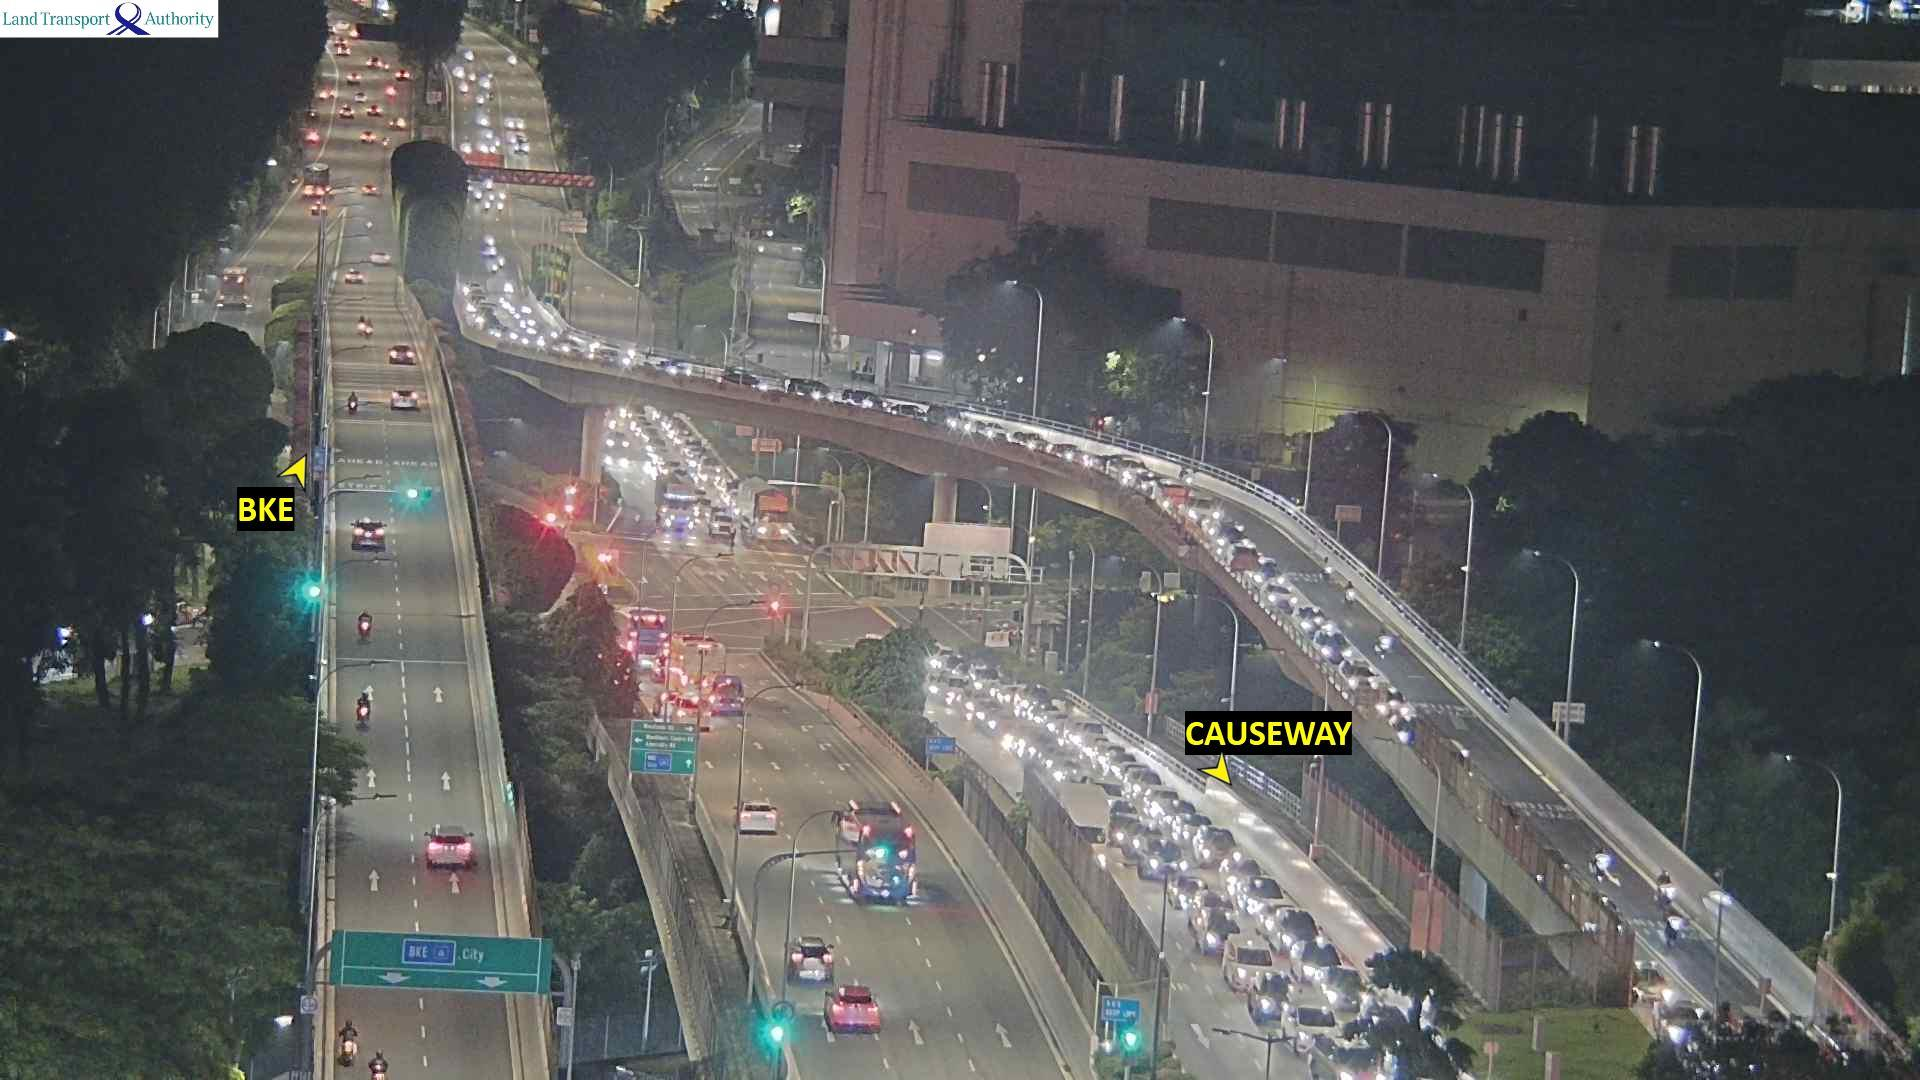vehicle-causeway-johor: (741, 481, 793, 535), (655, 472, 696, 530), (1230, 943, 1280, 989), (1307, 1035, 1370, 1071), (1287, 998, 1328, 1048), (1258, 975, 1296, 1019), (1138, 837, 1182, 874), (1203, 827, 1240, 864), (1127, 824, 1166, 860), (727, 364, 773, 390), (1241, 880, 1280, 910), (1196, 907, 1229, 943), (1321, 969, 1358, 998), (1275, 909, 1313, 936), (1300, 943, 1340, 969), (1109, 798, 1134, 839), (1095, 454, 1137, 477), (786, 377, 825, 402), (1145, 787, 1182, 814), (1004, 683, 1050, 704), (1640, 959, 1665, 997), (647, 357, 699, 376), (993, 678, 1030, 702), (1167, 815, 1211, 835), (881, 401, 931, 418), (1000, 720, 1031, 746), (963, 422, 1000, 444), (1229, 535, 1262, 560), (562, 338, 609, 355), (1315, 629, 1346, 654), (1065, 719, 1097, 744), (1079, 721, 1108, 748), (1042, 440, 1077, 462), (977, 705, 1013, 727), (1125, 767, 1155, 791), (1108, 754, 1138, 778), (1337, 657, 1369, 679), (1654, 864, 1671, 905), (1257, 582, 1284, 607), (981, 715, 1017, 733), (1291, 607, 1319, 630), (894, 405, 932, 422), (1589, 845, 1607, 880), (712, 512, 737, 537), (696, 456, 723, 480), (959, 661, 990, 680), (839, 396, 885, 409), (1170, 492, 1208, 508), (1174, 877, 1200, 899), (972, 667, 1002, 686), (1010, 431, 1047, 446), (670, 422, 699, 440), (1158, 479, 1184, 498), (1374, 626, 1394, 653), (1023, 694, 1055, 709), (942, 678, 971, 695), (963, 694, 989, 712), (1667, 910, 1680, 947), (1191, 506, 1221, 522), (1097, 748, 1125, 765), (928, 669, 948, 692), (1047, 713, 1073, 731), (947, 657, 973, 674), (640, 443, 667, 458), (678, 436, 703, 452), (632, 423, 657, 439), (688, 447, 711, 464), (692, 500, 716, 516), (1091, 740, 1114, 756), (659, 462, 680, 479), (653, 452, 676, 467), (721, 483, 741, 500), (1137, 472, 1159, 487), (475, 310, 493, 327), (644, 433, 663, 448), (509, 303, 530, 318), (500, 298, 525, 310), (516, 316, 538, 330), (465, 301, 492, 311), (1036, 705, 1058, 719), (629, 417, 649, 430), (1345, 579, 1356, 603), (707, 472, 725, 485), (463, 282, 481, 293), (522, 332, 537, 343), (468, 294, 484, 303), (489, 326, 510, 332), (541, 332, 546, 348), (512, 331, 521, 339)
vehicle-causeway-singapore: (836, 802, 918, 913), (839, 803, 911, 860), (820, 985, 887, 1034), (425, 831, 480, 868), (687, 676, 742, 708), (733, 803, 782, 837), (794, 953, 849, 982), (799, 938, 835, 972), (340, 1019, 356, 1064), (713, 695, 742, 717), (356, 690, 373, 723), (397, 392, 422, 413), (393, 388, 419, 407), (351, 533, 378, 551), (373, 1048, 389, 1080), (356, 612, 373, 637), (393, 347, 414, 367), (368, 1058, 378, 1080), (372, 253, 390, 265), (359, 315, 369, 334), (344, 273, 356, 287), (348, 393, 357, 411), (368, 57, 378, 69)
